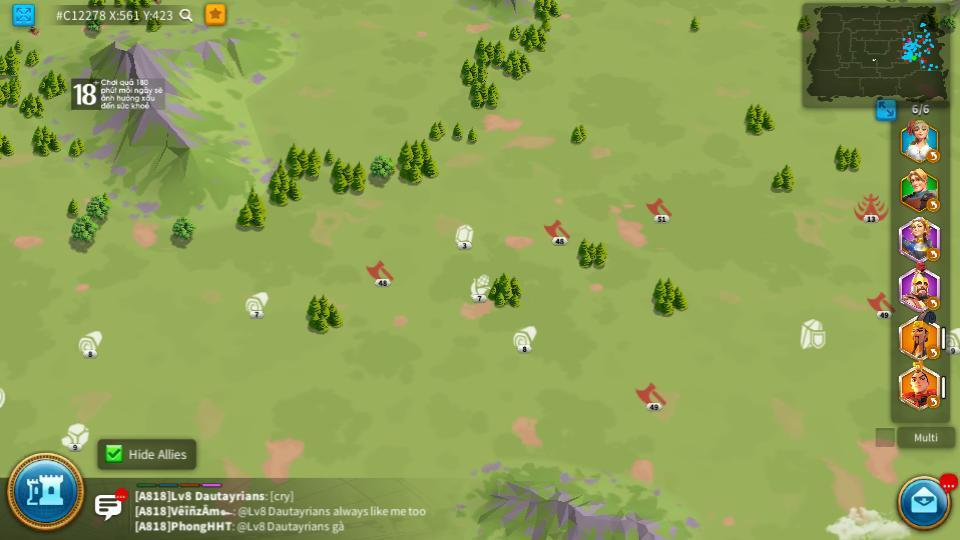gem-z-out: (454, 224, 473, 247), (0, 386, 7, 407)
march_returning: (926, 248, 941, 261), (926, 150, 941, 162), (927, 396, 941, 407), (927, 201, 941, 212), (925, 348, 938, 359), (925, 298, 938, 309)
